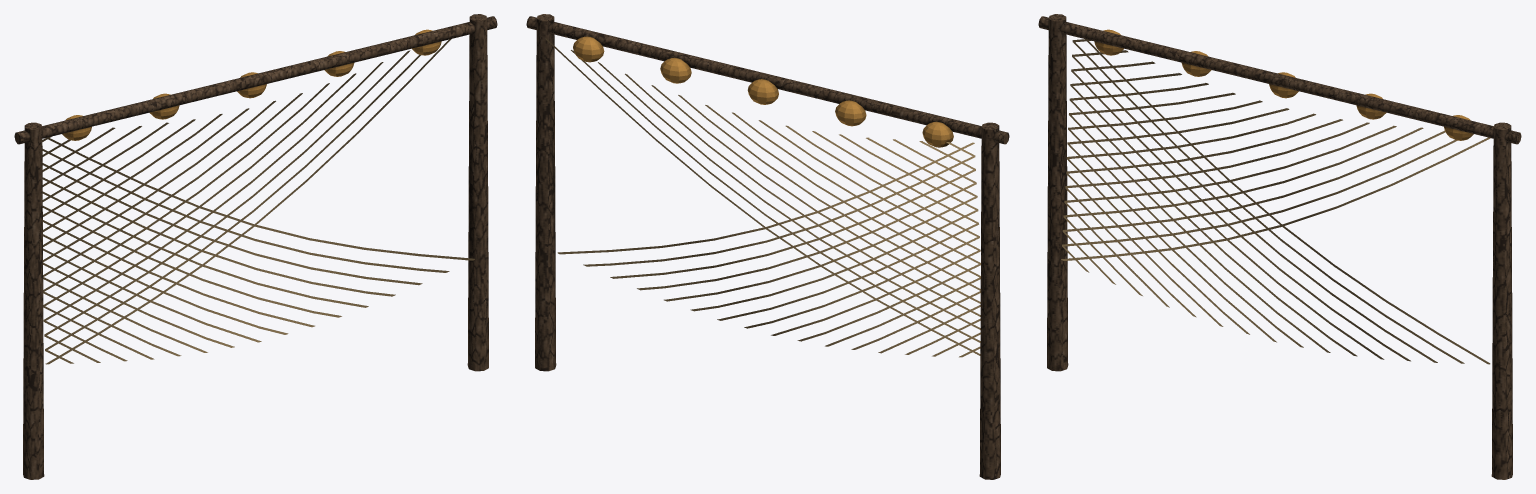
Rendered from cenario_redes.glb.
3 views of the same model, side by side, from view 1: azimuth 30°, elevation 25°; view 2: azimuth 150°, elevation 25°; view 3: azimuth 330°, elevation 25° (orthographic).
Parts seen in each view (by area): view 1: cenario_redes_tronco, rede; view 2: cenario_redes_tronco, rede; view 3: cenario_redes_tronco, rede.
Part boxes in pixels (x1,y1,x2,y2): cenario_redes_tronco: (14,14,497,479); rede: (42,39,474,364); cenario_redes_tronco: (526,14,1009,479); rede: (545,38,980,357); cenario_redes_tronco: (1038,14,1521,479); rede: (1061,39,1490,364).
Size of the model in its own units: 3 by 2.1 by 0.18.
Materials: 2 (2 with a texture image).
